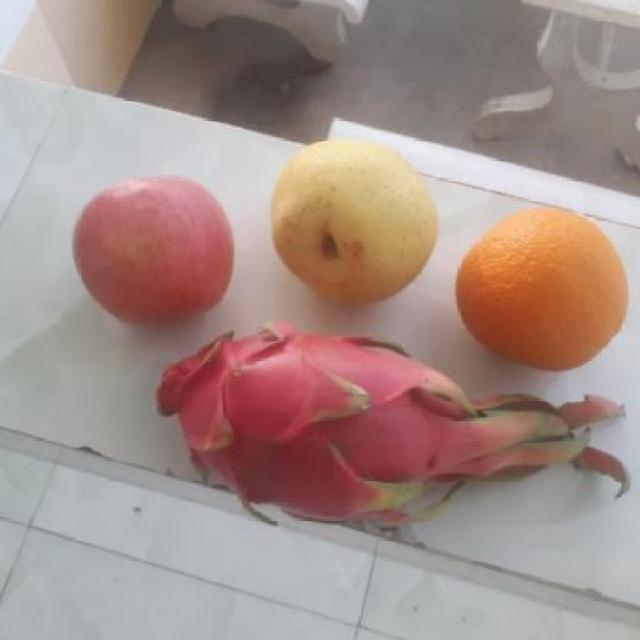apple: (68, 175, 235, 323)
dragon fruit: (143, 318, 472, 498)
oren: (451, 208, 627, 374)
pear: (263, 138, 442, 298)
